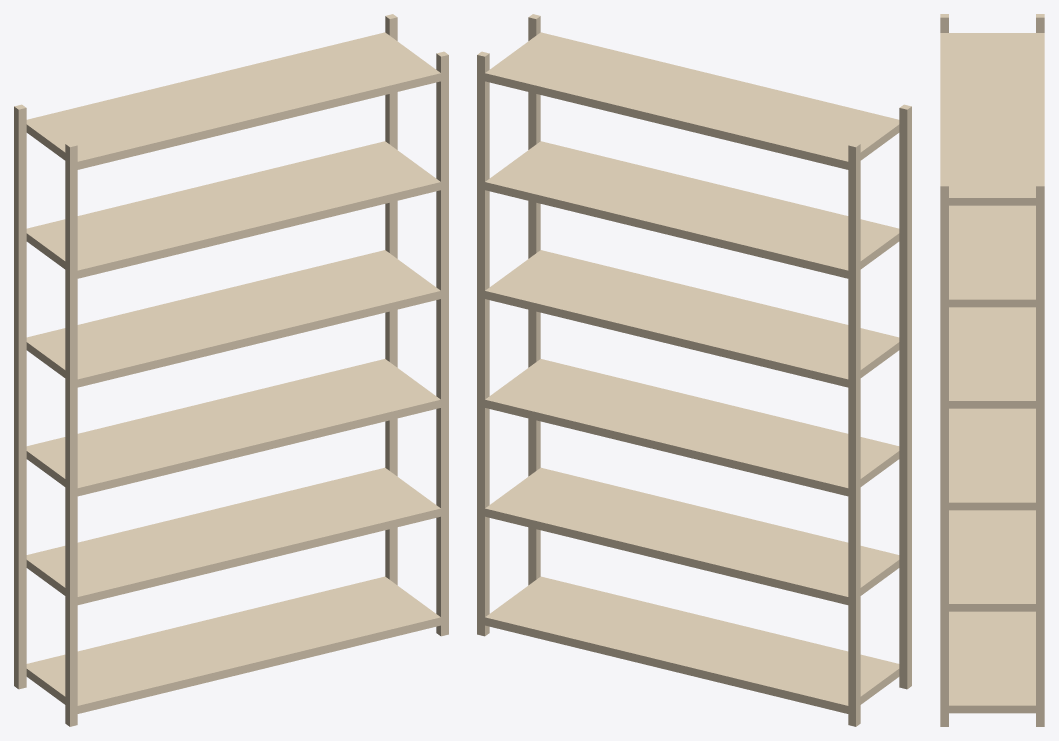
Rendered from ShelfDuzgun.fbx.
The picture shows the model from 3 angles, left to right: view 1: azimuth 30°, elevation 25°; view 2: azimuth 150°, elevation 25°; view 3: azimuth 270°, elevation 25°; orthographic projection. The views are drawn at different scales.
Visible parts, largest first — view 1: Shelves1; view 2: Shelves1; view 3: Shelves1.
Boxes of the visible parts, x1,y1,x2,y2 form: Shelves1: (14,14,448,726); Shelves1: (477,14,911,726); Shelves1: (940,14,1044,726).
Bounding box in the file's own units: 145 × 212 × 37.
